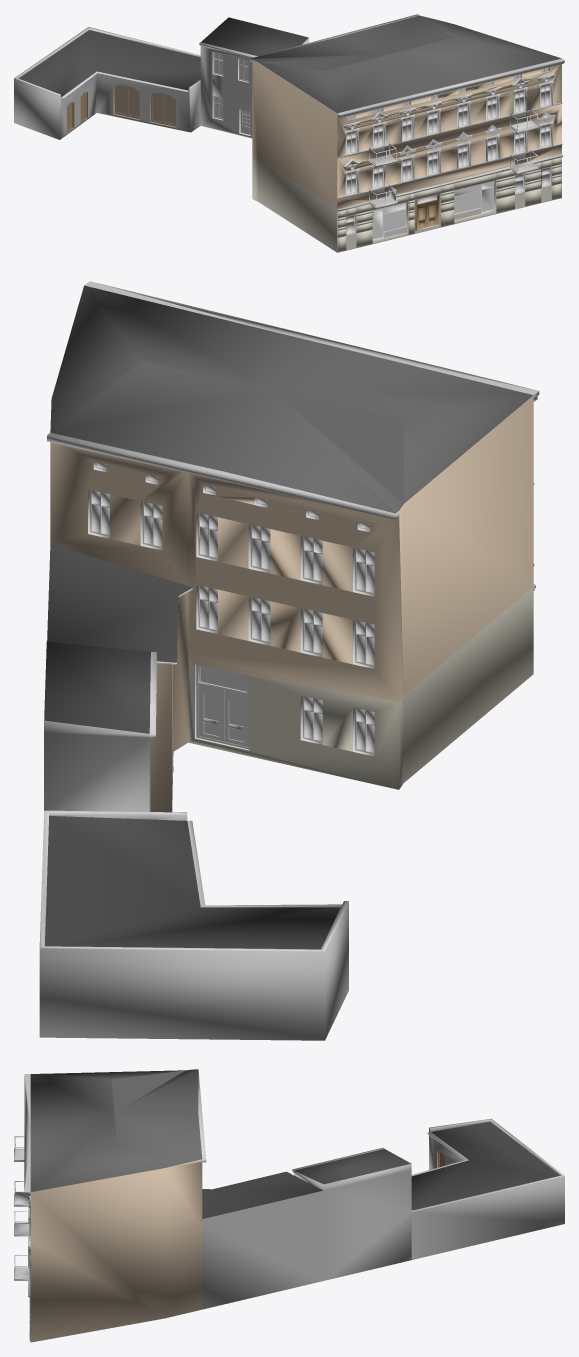
The model's file is Building_2.fbx.
The picture shows the model from 3 angles, top to bottom: view 1: azimuth 30°, elevation 25°; view 2: azimuth 150°, elevation 25°; view 3: azimuth 270°, elevation 25°; orthographic projection. The views are drawn at different scales.
Visible parts, largest first — view 1: Empty, OKNO_R1_4, WITRYNA_2_, BRAMA_C5_1, BRAMA_C5_2; view 2: Empty, OKNO_R1_27, BRAMA_R4_1; view 3: Empty.
Part boxes in pixels (box(x1,y1,x2,y2)): Empty: box(14, 14, 564, 252); OKNO_R1_4: box(347, 83, 551, 195); WITRYNA_2_: box(346, 167, 551, 240); BRAMA_C5_1: box(113, 85, 139, 119); BRAMA_C5_2: box(150, 93, 175, 127); Empty: box(39, 281, 539, 1040); OKNO_R1_27: box(88, 489, 374, 756); BRAMA_R4_1: box(195, 664, 249, 750); Empty: box(14, 1069, 564, 1342).
Bounding box in the file's own units: 1.53 × 0.6469 × 2.03.
